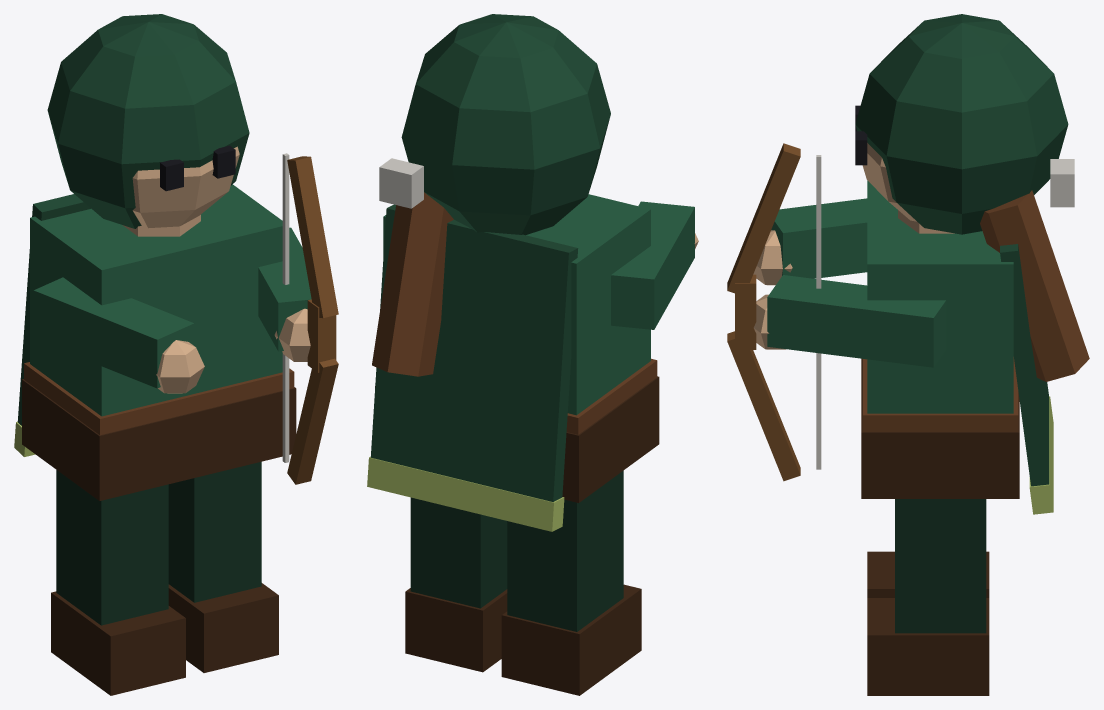
File: u_ranger.fbx
The picture shows the model from 3 angles, left to right: view 1: azimuth 30°, elevation 25°; view 2: azimuth 150°, elevation 25°; view 3: azimuth 270°, elevation 25°; orthographic projection. The views are drawn at different scales.
Visible parts, largest first — view 1: u_ranger_Body, u_ranger_LegR, u_ranger_LegL; view 2: u_ranger_Body, u_ranger_LegR, u_ranger_LegL; view 3: u_ranger_Body, u_ranger_LegL, u_ranger_LegR.
Part boxes in pixels (x1=…): u_ranger_Body: x1=14, y1=14, x2=338, y2=500; u_ranger_LegR: x1=51, y1=470, x2=185, y2=695; u_ranger_LegL: x1=168, y1=461, x2=278, y2=672; u_ranger_Body: x1=367, y1=14, x2=698, y2=531; u_ranger_LegR: x1=501, y1=470, x2=641, y2=695; u_ranger_LegL: x1=405, y1=497, x2=507, y2=672; u_ranger_Body: x1=727, y1=14, x2=1089, y2=514; u_ranger_LegL: x1=867, y1=499, x2=989, y2=695; u_ranger_LegR: x1=867, y1=551, x2=989, y2=597.
Size of the model in its own units: 0.4977 by 1.14 by 0.5954.
